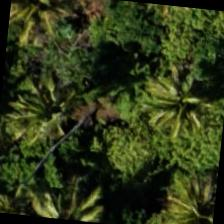Kelapa_Sawit: (0, 64, 94, 164), (132, 59, 223, 160), (6, 0, 85, 55), (150, 163, 218, 223)
